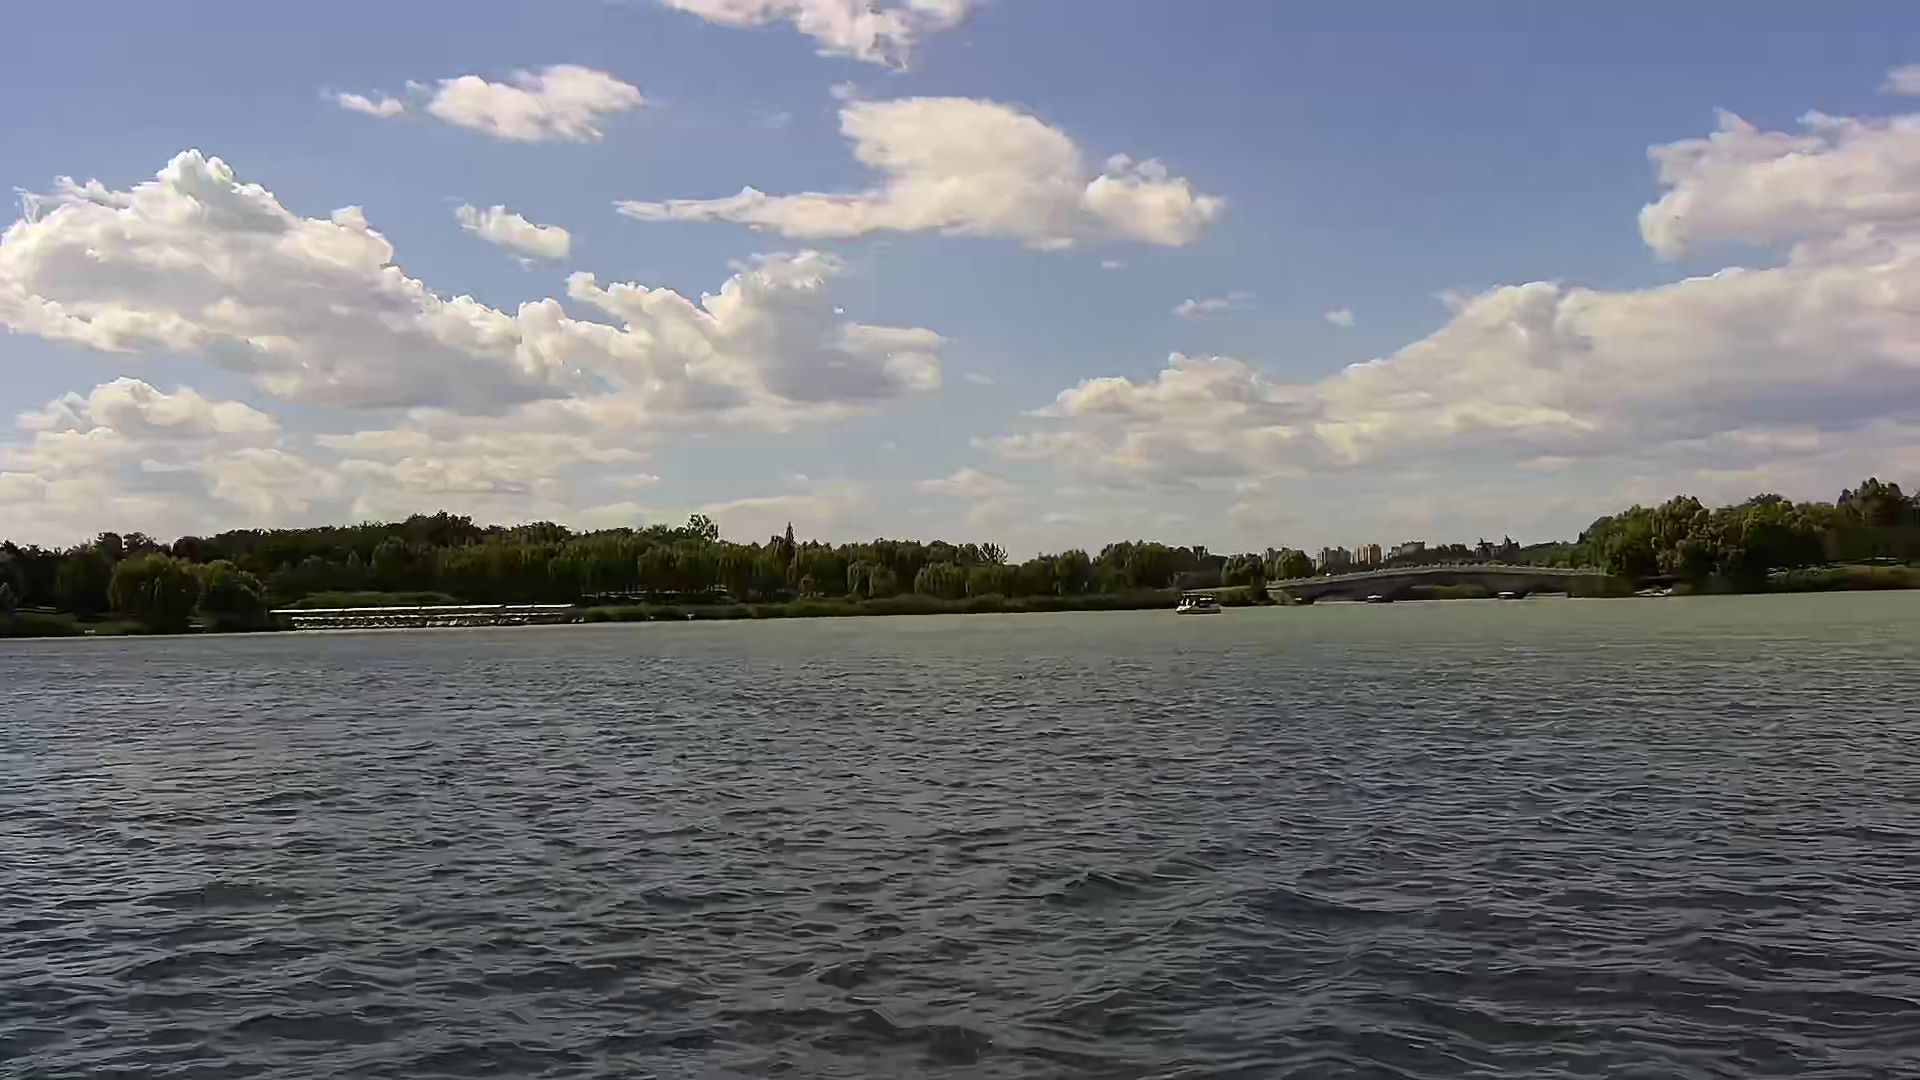boat: (1168, 591, 1224, 616)
bridge: (1261, 568, 1607, 603), (274, 603, 568, 630)
